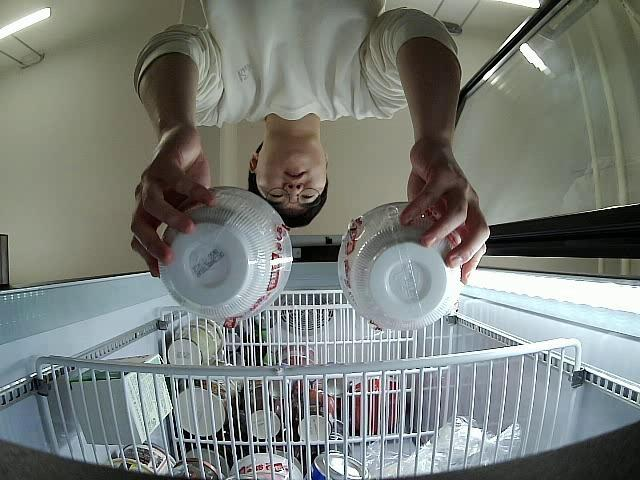09_yukGaeJang: (157, 188, 294, 324), (337, 202, 460, 333)
